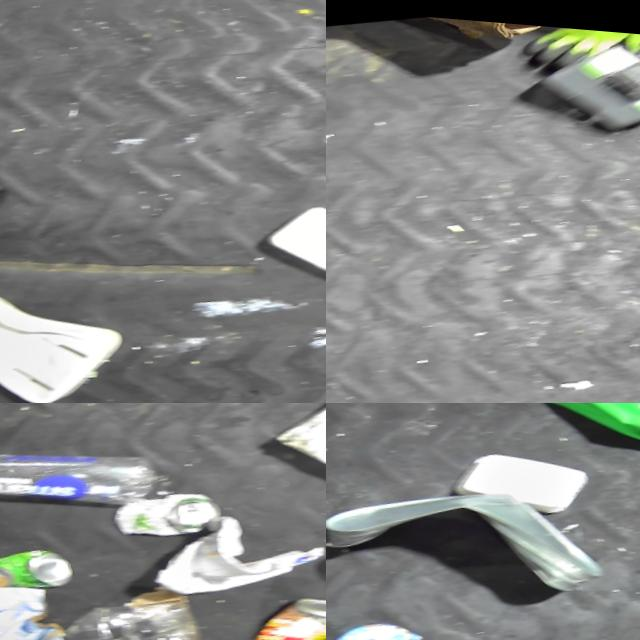can: (109, 476, 231, 547), (0, 535, 86, 600), (248, 576, 326, 640), (326, 604, 434, 640)
non_white_jug: (534, 403, 640, 457)
plastic_bottle: (0, 414, 168, 538)
